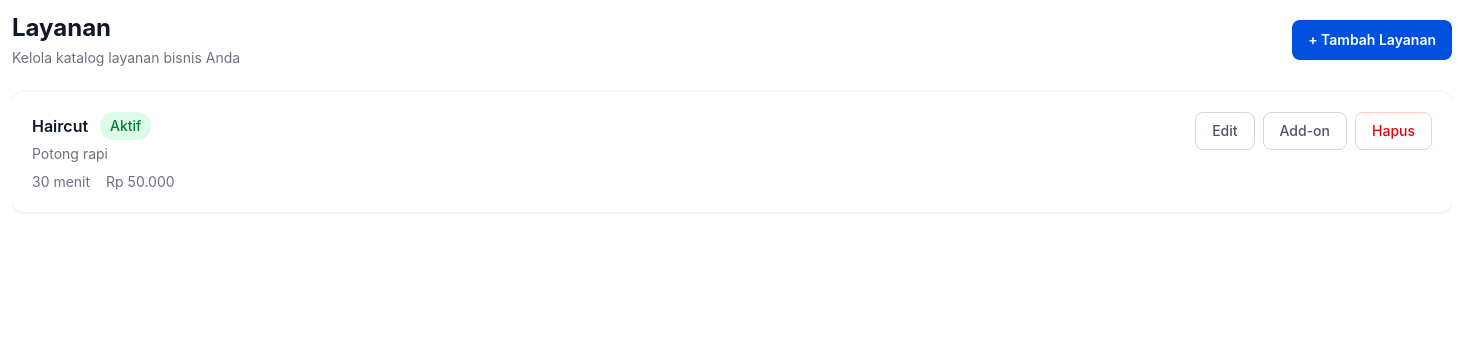
Scenario: ServicesPage › add-on: add and remove addon items
This screenshot has width=1464, height=356.
Expected: the heading "Haircut" is shown, [32,114,88,138]
Click the button "Add-on" at (1305, 131), box [1262,112,1347,150]
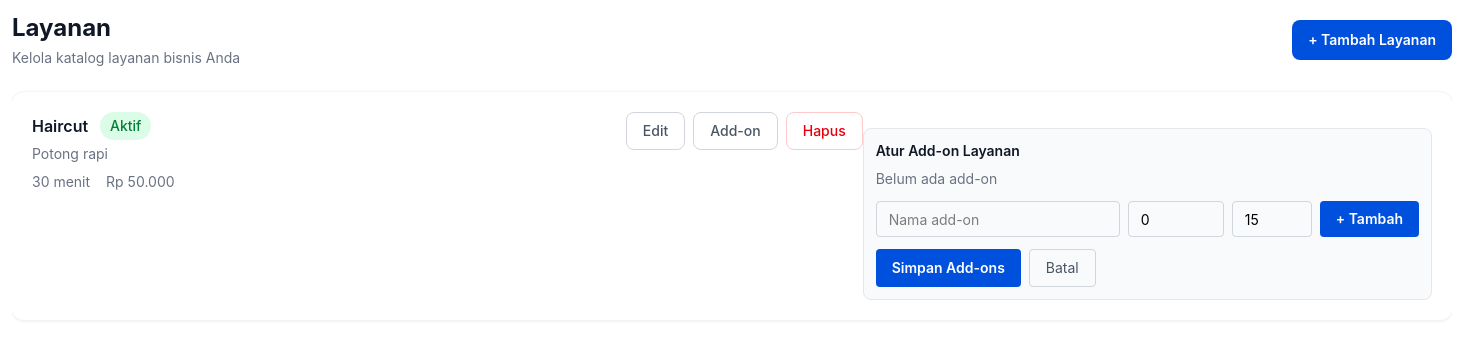
Expected: the heading "Atur Add-on Layanan" is shown, [876,142,1020,159]
Type "Hair Wax" into the field with placeholder "Nama add-on" at (998, 219), box [876,201,1120,237]
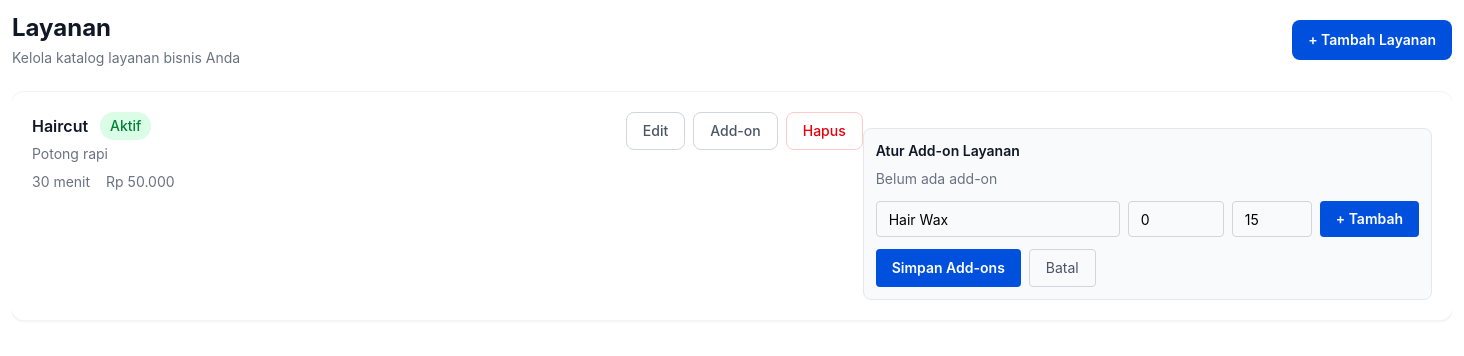
Replace the text in the 1st number field with placeholder "Harga" with "25000" at (1176, 219), box [1128,201,1224,237]
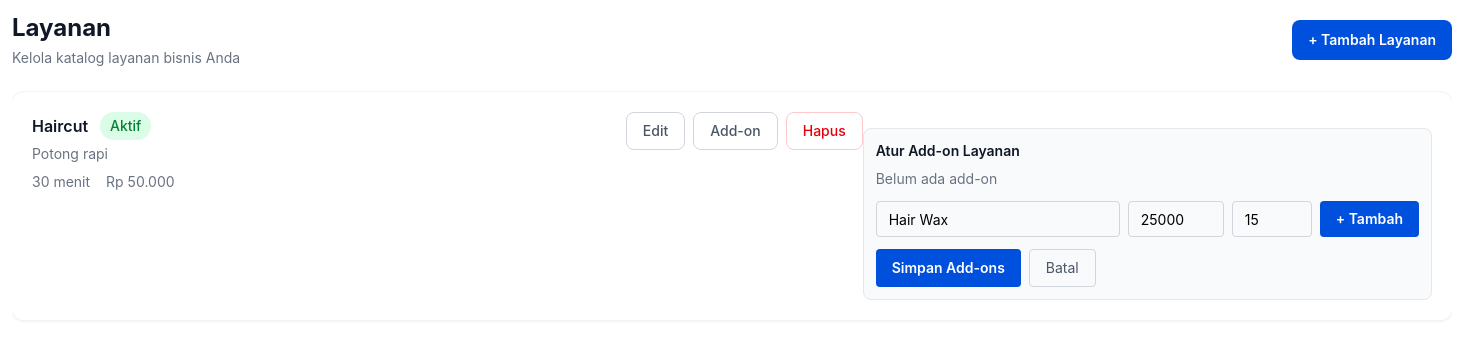
Click the button "+ Tambah" at (1369, 219), box [1320,201,1419,237]
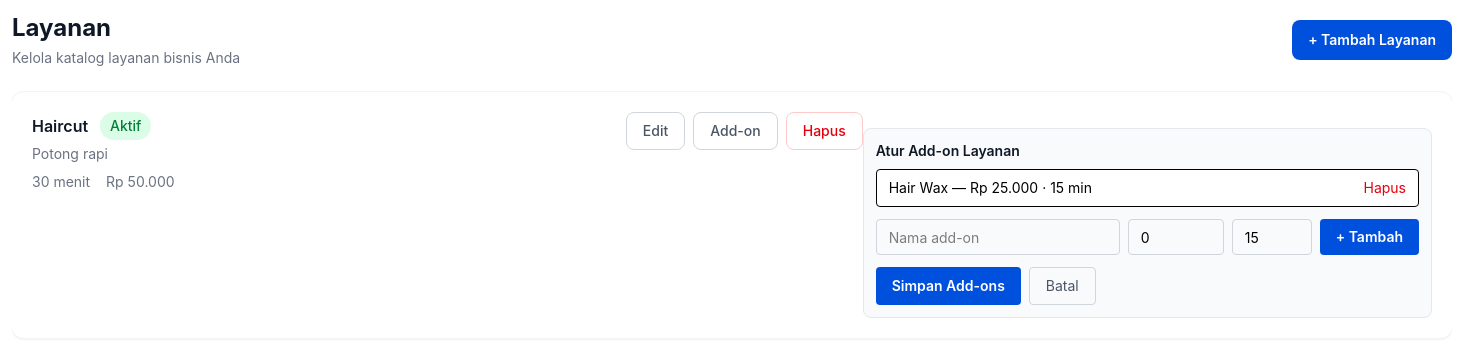
Expected: the text "Hair Wax — Rp 25.000 · 15 min" is shown, [889,178,1092,198]
Click the button "Hapus" in the row of "min" at (1385, 188), box [1364,178,1406,198]
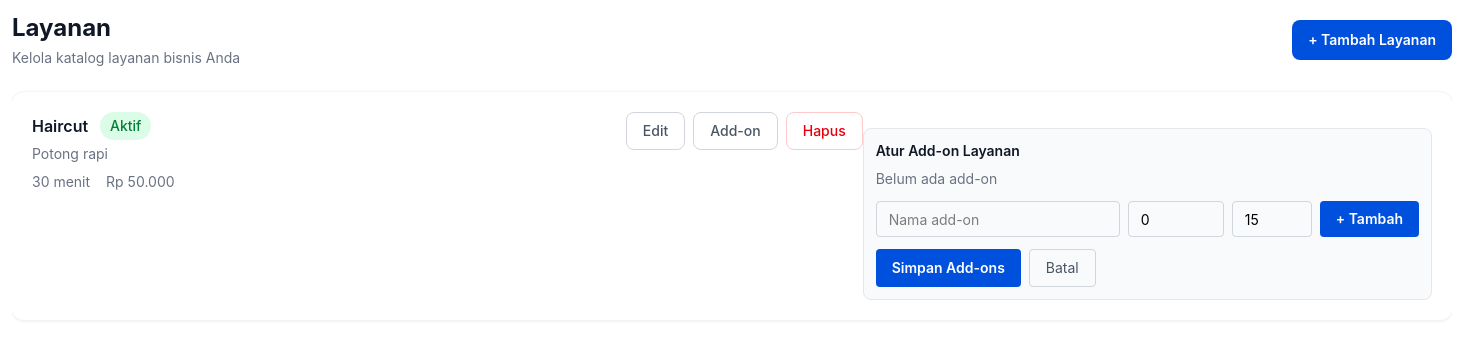
Expected: the text "Belum ada add-on" is shown, [876,170,997,187]
